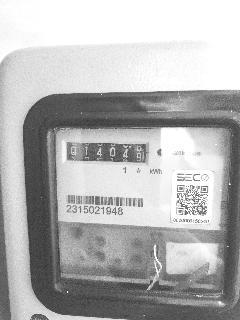1: (72, 147, 77, 156), (111, 148, 116, 157)
2: (84, 147, 90, 155)
5: (97, 148, 102, 157), (123, 150, 128, 159)
:: (137, 153, 142, 161)
